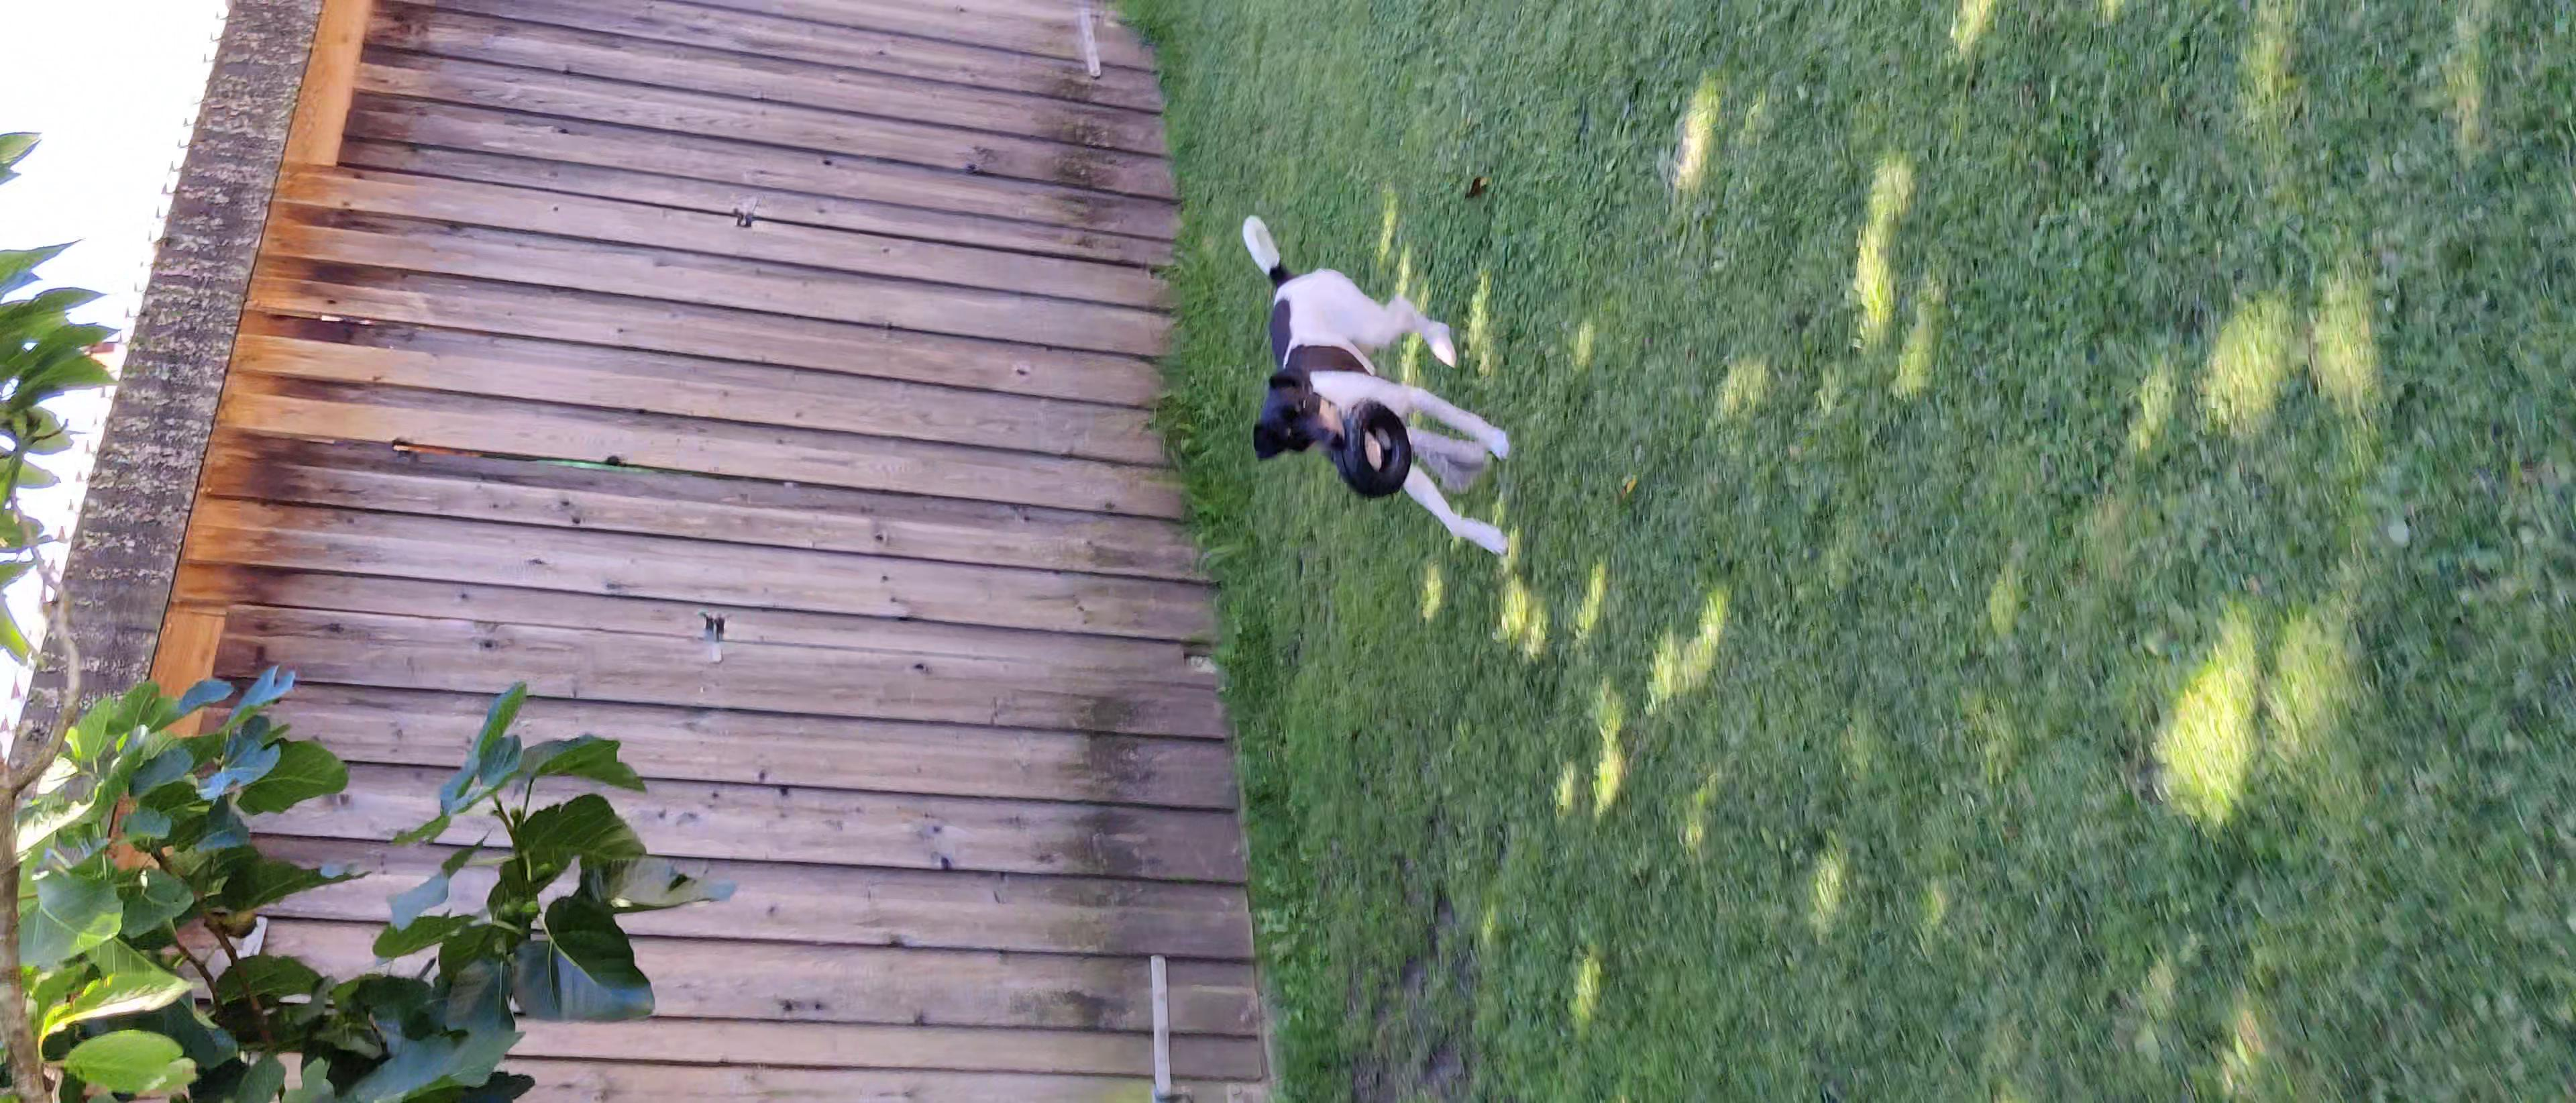Dog: (1240, 210, 1511, 557)
